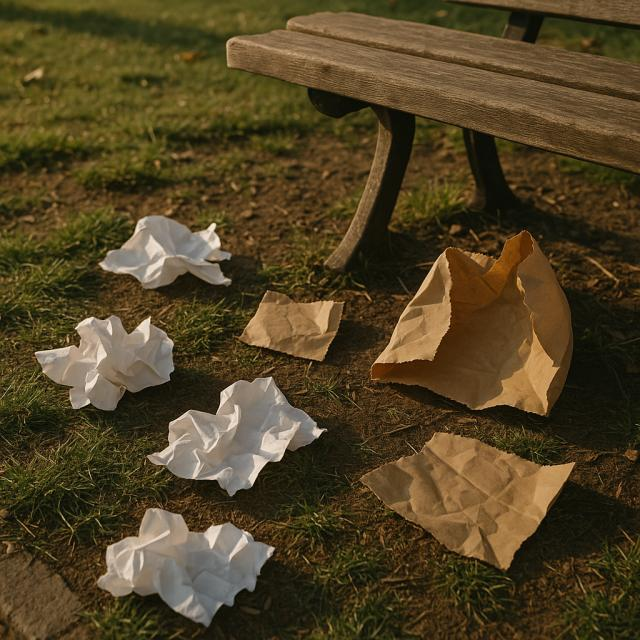paper: (378, 230, 573, 416), (359, 426, 583, 570), (153, 380, 330, 490), (106, 512, 277, 622), (37, 312, 176, 411), (98, 215, 232, 288), (247, 285, 342, 364)
